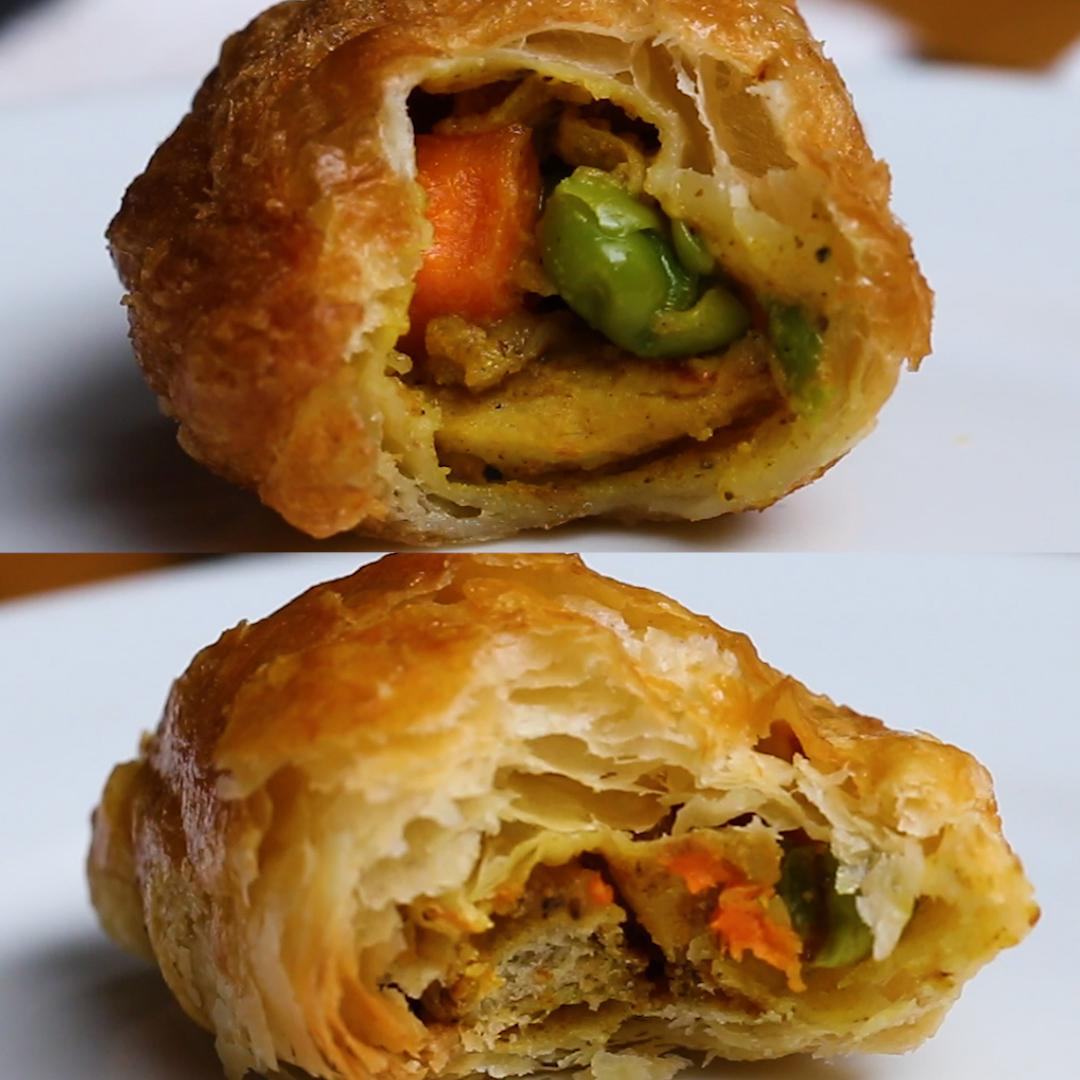Curry Puff: (98, 571, 1020, 1072), (120, 9, 955, 540)
